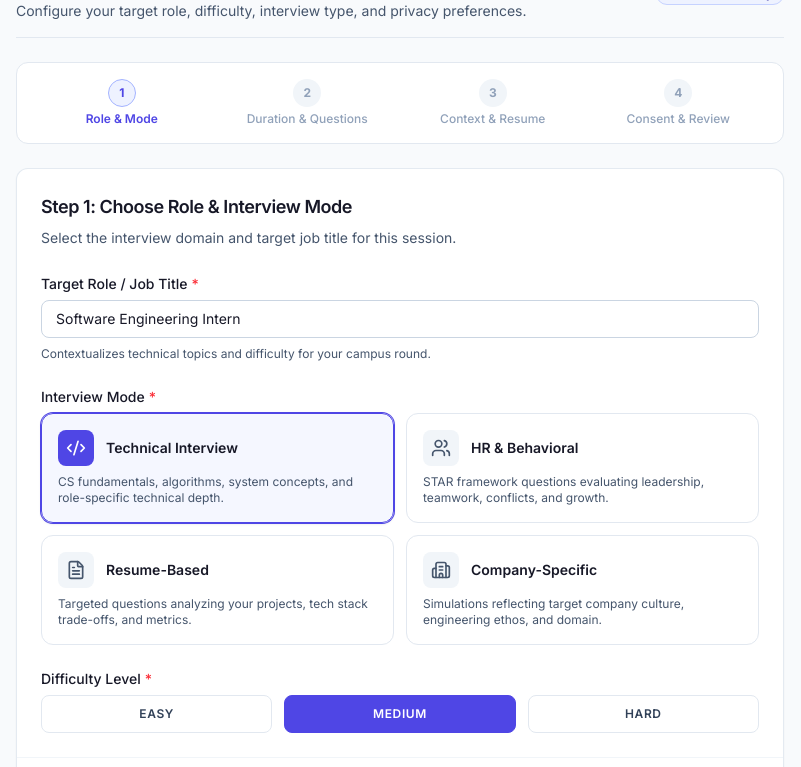
Test: Start Interview Wizard UI › prevents advancing if role is empty and displays accessible error
Clear the field labelled "Target Role / Job Title*" at (400, 319), box [41, 300, 759, 338]
(page scrolled)
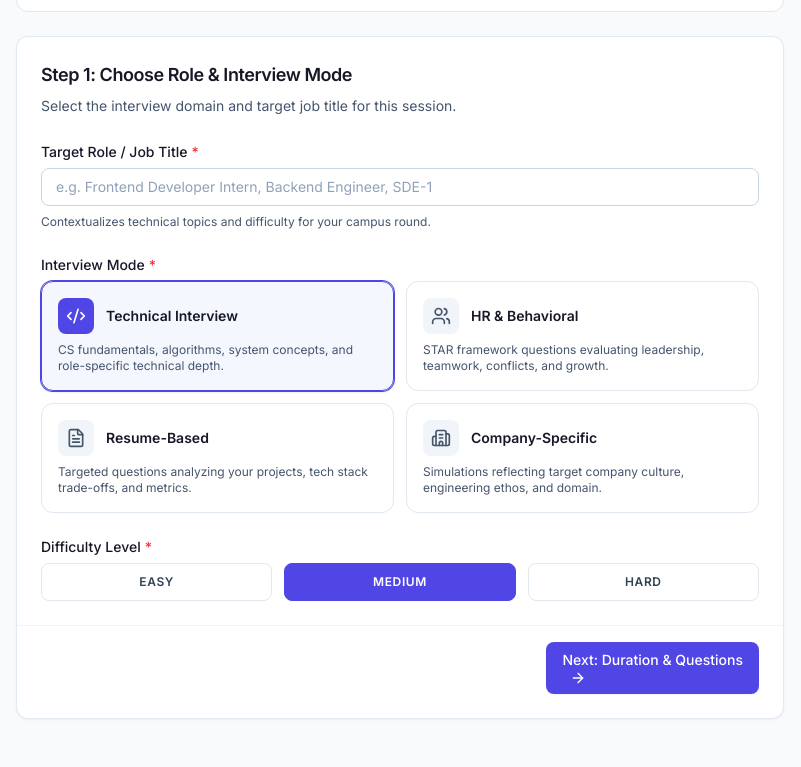
Click the button "Next: Duration & Questions".
click(653, 668)  # box [546, 642, 759, 694]
(page scrolled)
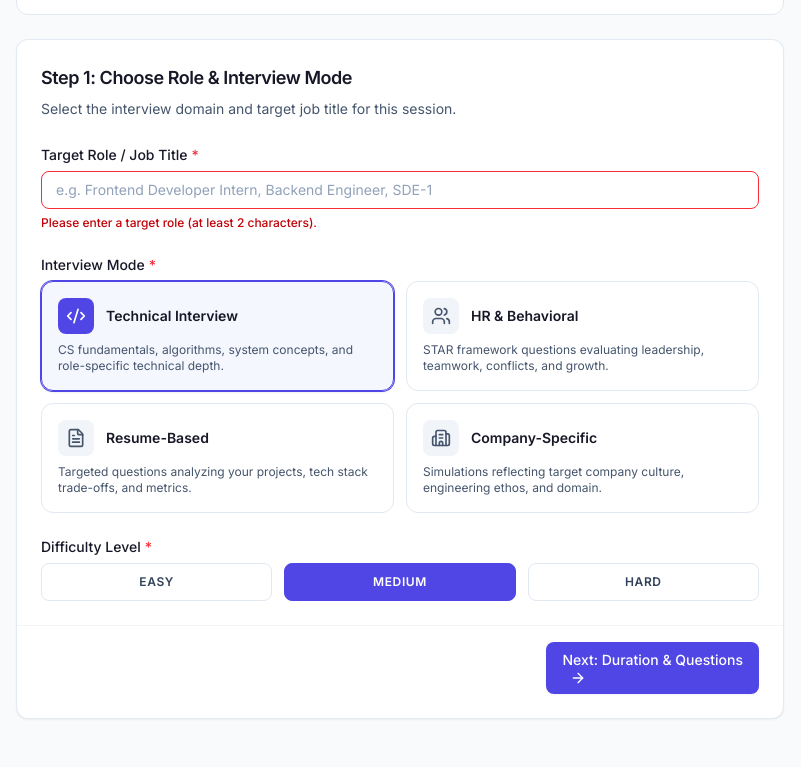
Result: the text "Please enter a target role (at least 2 characters)." is shown at [41, 215, 317, 230]
